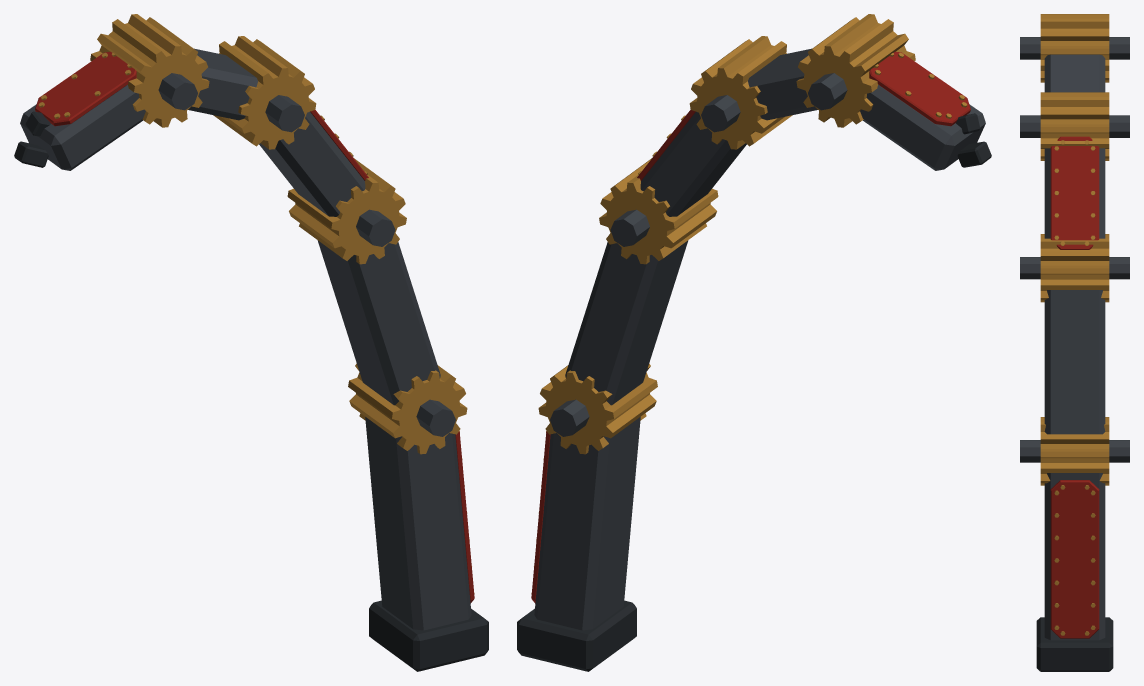
Rendered from cog_walker_rib_half.fbx.
3 renders of one model, left to right at view 1: azimuth 30°, elevation 25°; view 2: azimuth 150°, elevation 25°; view 3: azimuth 270°, elevation 25°, orthographic. The views are drawn at different scales.
Parts seen in each view (by area): view 1: Body; view 2: Body; view 3: Body.
Part boxes in pixels (left/top/right/bottom): Body: left=14, top=14, right=488, bottom=671; Body: left=517, top=14, right=991, bottom=671; Body: left=1020, top=14, right=1129, bottom=671.
Size of the model in its own units: 20.11 by 29.29 by 5.44.
Materials: 1 (1 with a texture image).
